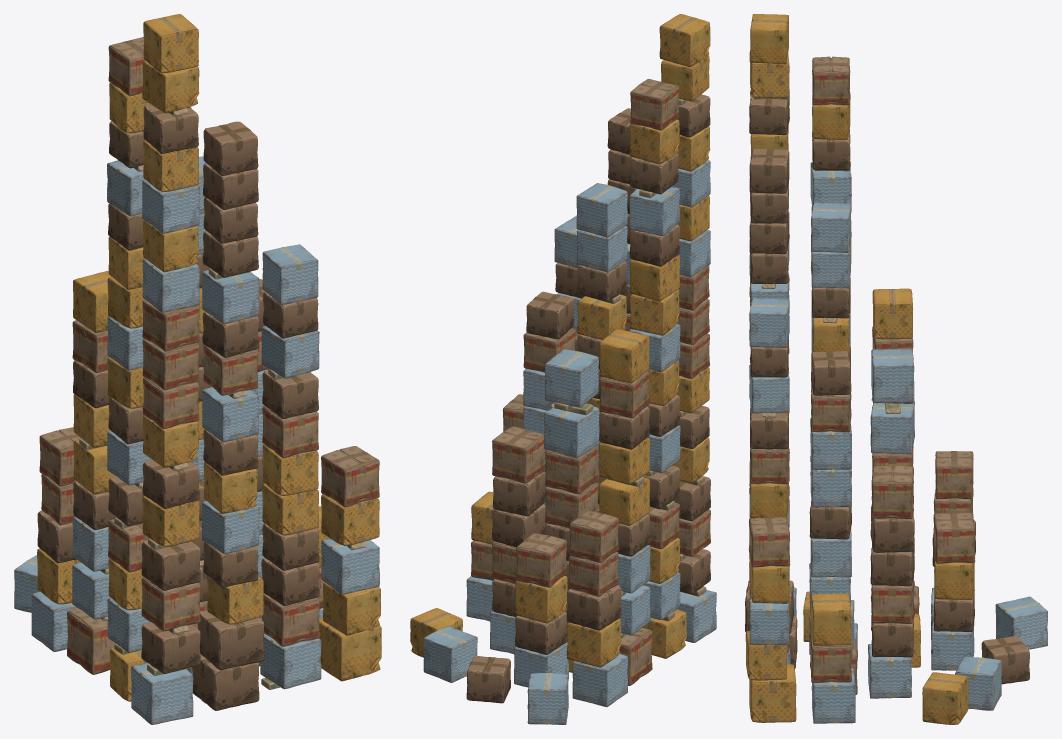
Rendered from angolo_scatoloni.gltf.
The picture shows the model from 3 angles, left to right: view 1: azimuth 30°, elevation 25°; view 2: azimuth 150°, elevation 25°; view 3: azimuth 270°, elevation 25°; orthographic projection. The views are drawn at different scales.
Visible parts, largest first — view 1: scat_0_0_0, scat_3_0_5, scat_1_0_1, scat_2_0_12, scat_3_0_0, scat_0_0_21, scat_3_0_2, scat_1_0_0, scat_2_0_1, scat_1_0_11, scat_1_0_7, scat_1_0_16 (+67 smaller); view 2: scat_1_2_9, scat_2_2_5, scat_caduto_4, scat_1_2_6, scat_1_3_3, scat_1_1_16, scat_0_2_11, scat_0_3_0, scat_0_0_21, scat_0_3_4, scat_0_1_19, scat_caduto_0 (+69 smaller); view 3: scat_1_2_9, scat_2_2_5, scat_caduto_2, scat_caduto_0, scat_3_0_0, scat_3_1_2, scat_1_2_6, scat_1_3_3, scat_0_2_11, scat_1_1_16, scat_3_0_5, scat_2_0_12 (+46 smaller).
Part boxes in pixels (<box>): scat_0_0_0: <box>131,663,193,724</box>; scat_3_0_5: <box>321,446,379,507</box>; scat_1_0_1: <box>197,610,264,669</box>; scat_2_0_12: <box>262,244,318,304</box>; scat_3_0_0: <box>319,617,381,681</box>; scat_0_0_21: <box>143,14,198,72</box>; scat_3_0_2: <box>321,538,379,594</box>; scat_1_0_0: <box>192,654,259,710</box>; scat_2_0_1: <box>260,633,321,689</box>; scat_1_0_11: <box>202,270,259,324</box>; scat_1_0_7: <box>202,387,259,442</box>; scat_1_0_16: <box>203,121,258,175</box>; scat_1_2_9: <box>545,349,598,407</box>; scat_2_2_5: <box>492,426,545,483</box>; scat_caduto_4: <box>423,626,477,682</box>; scat_1_2_6: <box>544,406,599,458</box>; scat_1_3_3: <box>516,533,566,587</box>; scat_1_1_16: <box>576,183,627,237</box>; scat_0_2_11: <box>599,329,649,383</box>; scat_0_3_0: <box>572,654,627,706</box>; scat_0_0_21: <box>659,14,710,67</box>; scat_0_3_4: <box>569,510,618,562</box>; scat_0_1_19: <box>630,79,679,130</box>; scat_caduto_0: <box>527,673,568,724</box>; scat_1_2_9: <box>871,348,914,402</box>; scat_2_2_5: <box>871,465,913,519</box>; scat_caduto_2: <box>922,672,968,724</box>; scat_caduto_0: <box>995,596,1047,649</box>; scat_3_0_0: <box>749,664,796,722</box>; scat_3_1_2: <box>810,593,851,645</box>; scat_1_2_6: <box>870,401,914,454</box>; scat_1_3_3: <box>933,512,975,563</box>; scat_0_2_11: <box>872,288,913,339</box>; scat_1_1_16: <box>811,202,851,252</box>; scat_3_0_5: <box>748,517,790,567</box>; scat_2_0_12: <box>749,298,789,347</box>.
Size of what is drawn, in the model's own units: 3.34 by 9.36 by 4.18.
5 materials, 5 textured.
